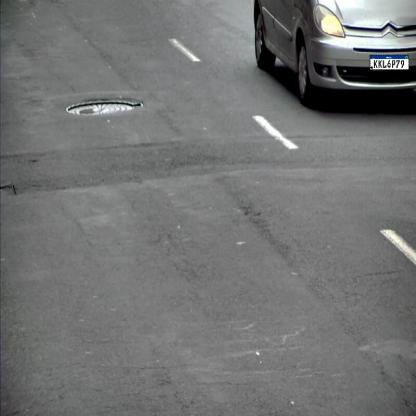PlacaM: (370, 55, 409, 70)
